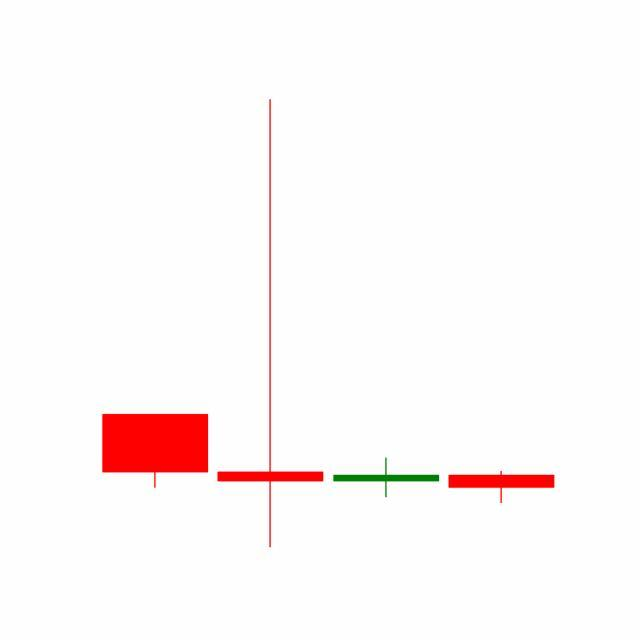Hammer: (444, 470, 560, 504)
